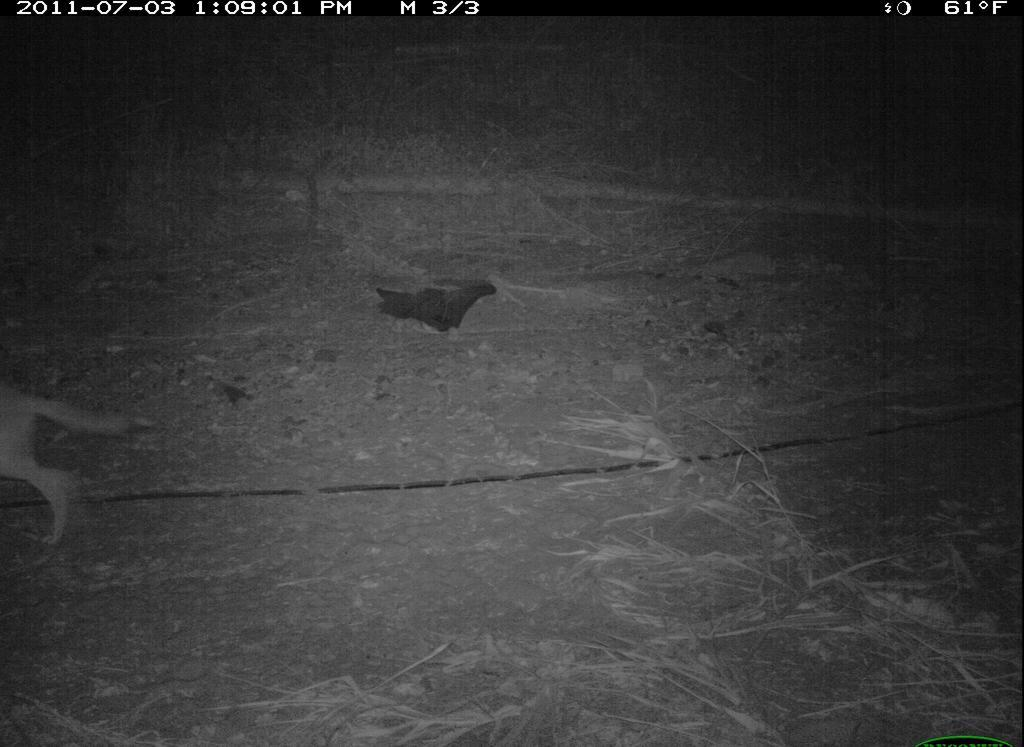coyote: (2, 365, 141, 556)
